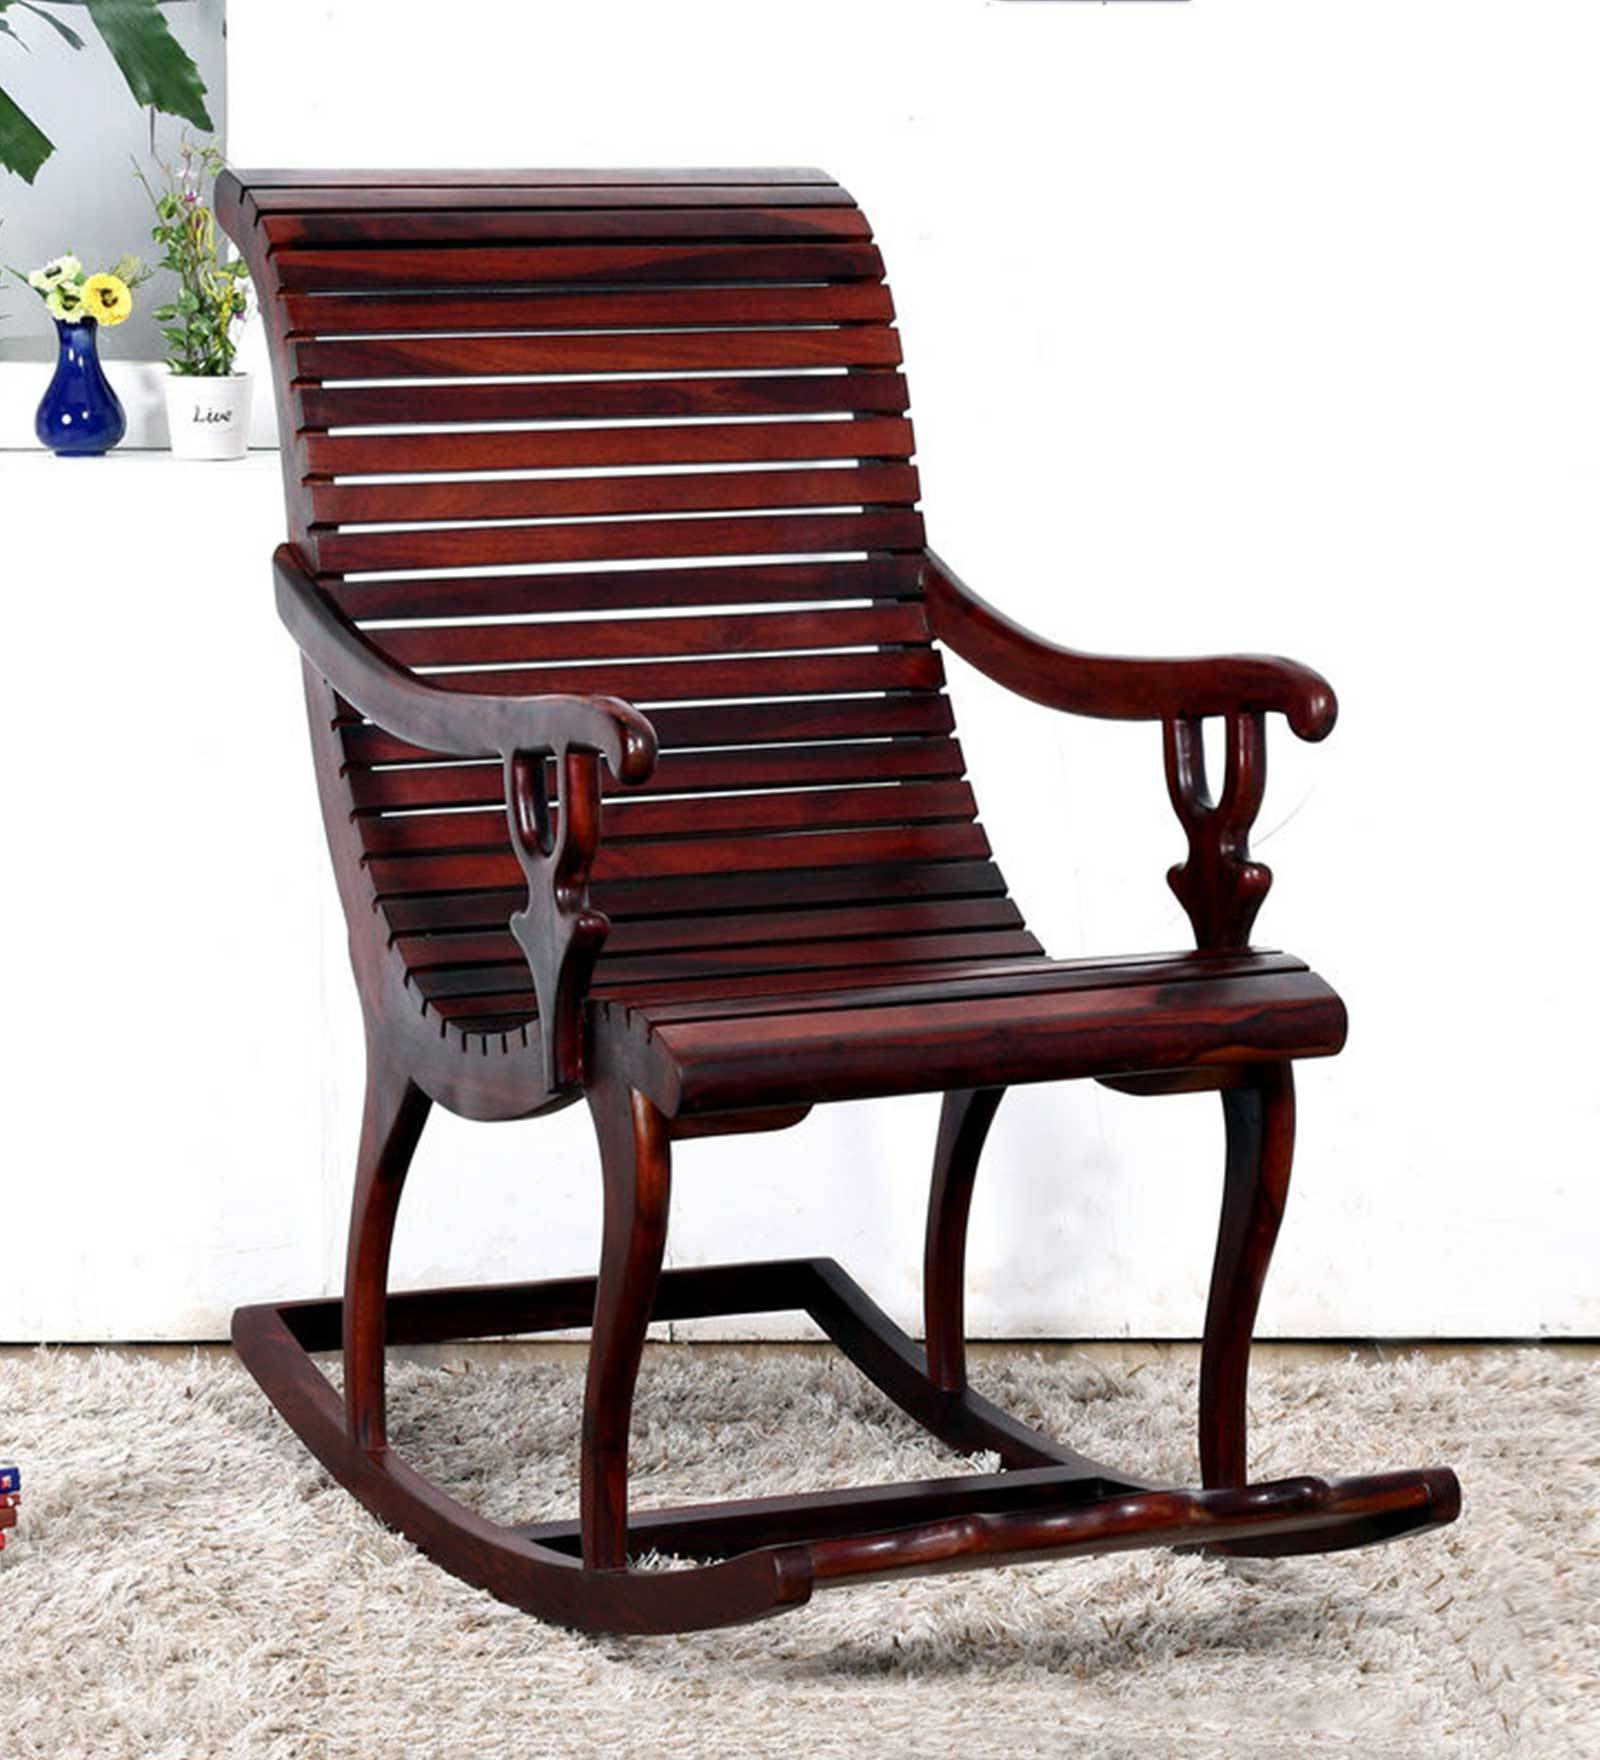Acklom Rocking Chair in Honey Oak Finish by Amberville: (179, 130, 1497, 1643)
